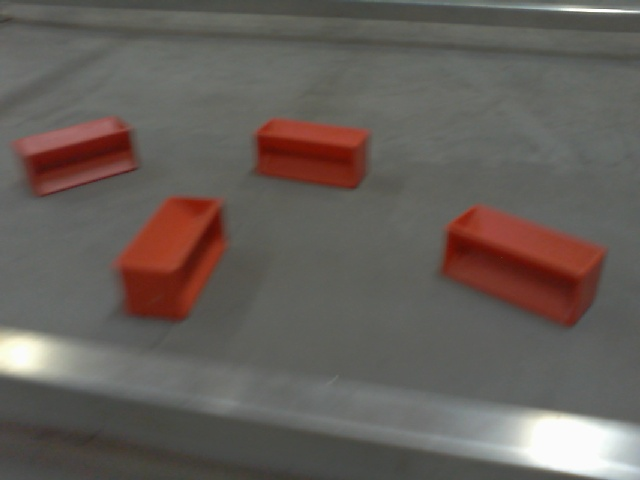RedSample: (439, 199, 609, 329), (112, 196, 226, 321), (10, 114, 141, 195), (252, 115, 370, 189)
